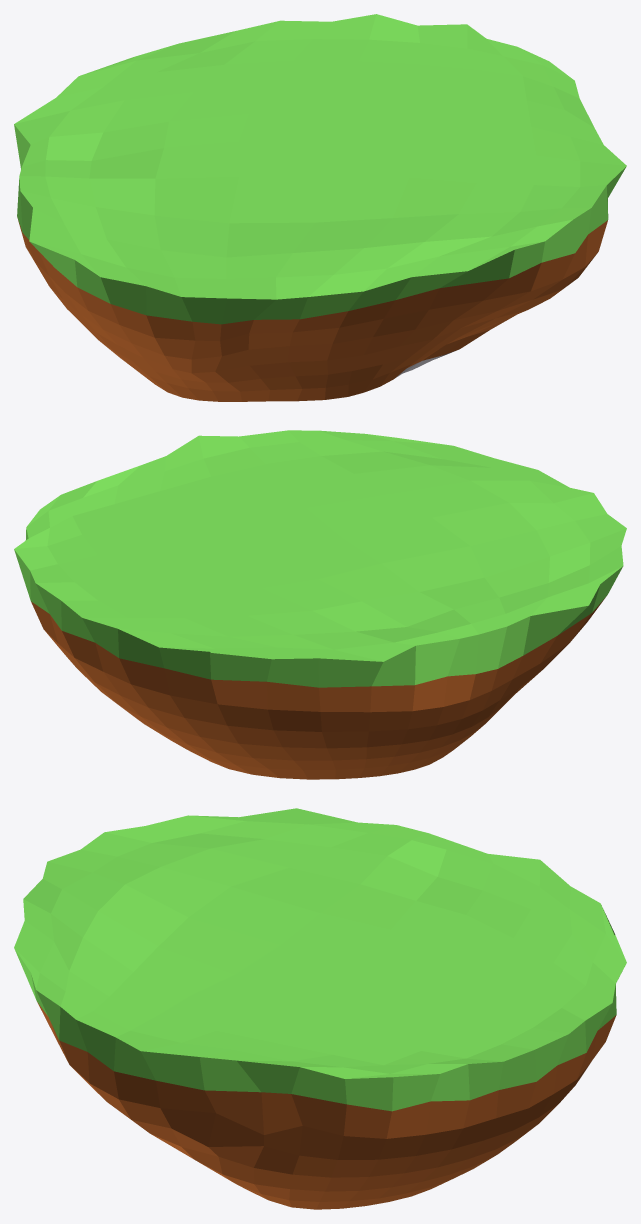
Rendered from Island_noRoad.glb.
3 renders of one model, top to bottom at view 1: azimuth 30°, elevation 25°; view 2: azimuth 150°, elevation 25°; view 3: azimuth 270°, elevation 25°, orthographic. The views are drawn at different scales.
Visible parts, largest first — view 1: Island_noRoad; view 2: Island_noRoad; view 3: Island_noRoad.
Part boxes in pixels (left/top/right/bottom): Island_noRoad: left=14, top=14, right=626, bottom=401; Island_noRoad: left=14, top=430, right=626, bottom=779; Island_noRoad: left=14, top=808, right=626, bottom=1209.
Bounding box in the file's own units: 2.43 × 0.838 × 2.29.
